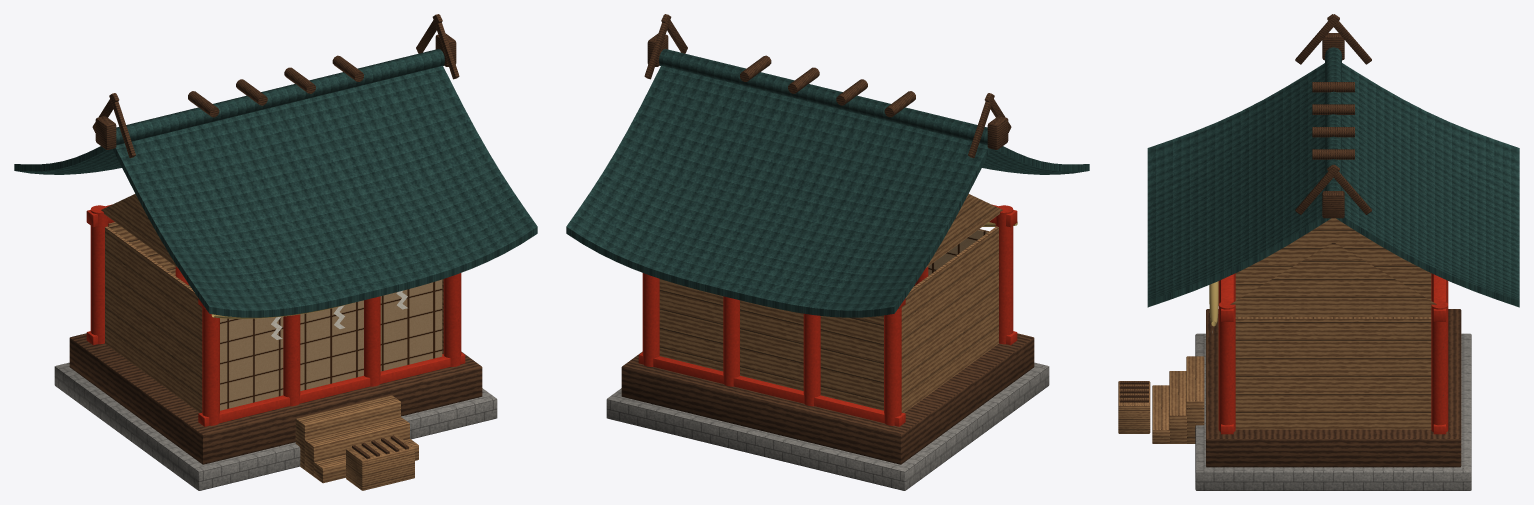
File: shrine.gltf
3 renders of one model, left to right at view 1: azimuth 30°, elevation 25°; view 2: azimuth 150°, elevation 25°; view 3: azimuth 270°, elevation 25°, orthographic. The views are drawn at different scales.
Visible parts, largest first — view 1: ShrineMesh; view 2: ShrineMesh; view 3: ShrineMesh.
Boxes of the visible parts, left/top/right/bottom form: ShrineMesh: left=14, top=14, right=537, bottom=490; ShrineMesh: left=566, top=14, right=1089, bottom=490; ShrineMesh: left=1118, top=14, right=1519, bottom=490.
Bounding box in the file's own units: 7.26 × 6.89 × 7.55.
8 materials, 8 textured.
